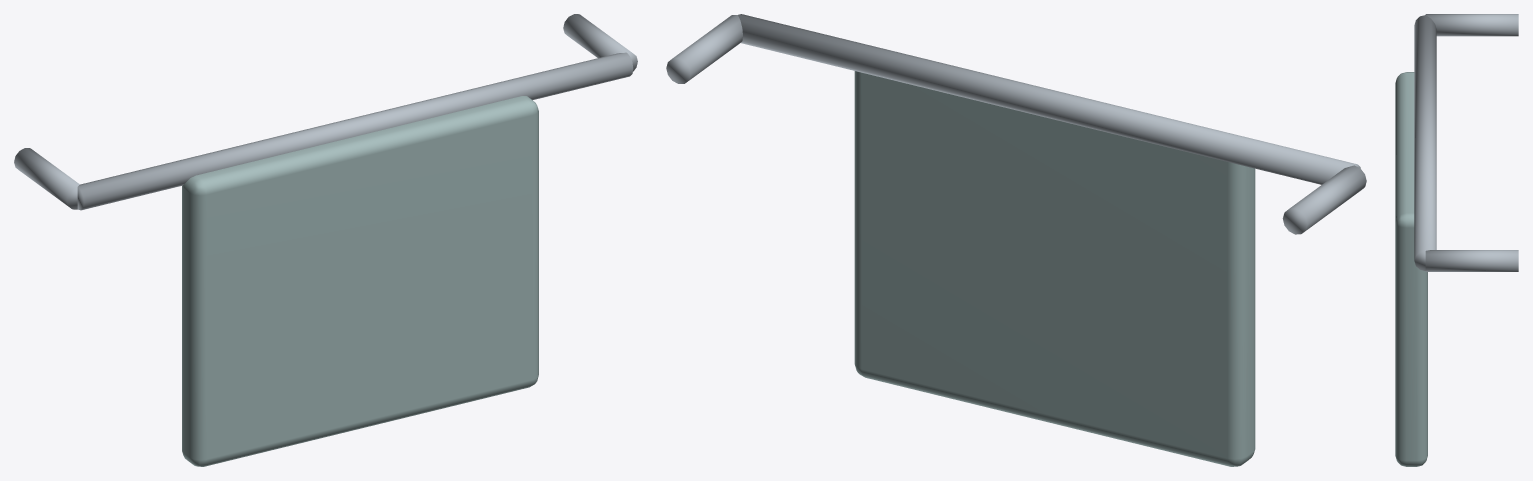
File: atelier-towel-rack.glb
The picture shows the model from 3 angles, left to right: view 1: azimuth 30°, elevation 25°; view 2: azimuth 150°, elevation 25°; view 3: azimuth 270°, elevation 25°; orthographic projection. The views are drawn at different scales.
Visible parts, largest first — view 1: fabric.084, steel.036; view 2: fabric.084, steel.036; view 3: fabric.084, steel.036.
Part boxes in pixels (bbox=[...]): fabric.084: bbox=[182, 96, 538, 466]; steel.036: bbox=[14, 14, 637, 210]; fabric.084: bbox=[854, 71, 1255, 466]; steel.036: bbox=[666, 14, 1366, 234]; fabric.084: bbox=[1395, 72, 1427, 466]; steel.036: bbox=[1414, 14, 1518, 271].
Bounding box in the file's own units: 0.624 × 0.312 × 0.1325.
